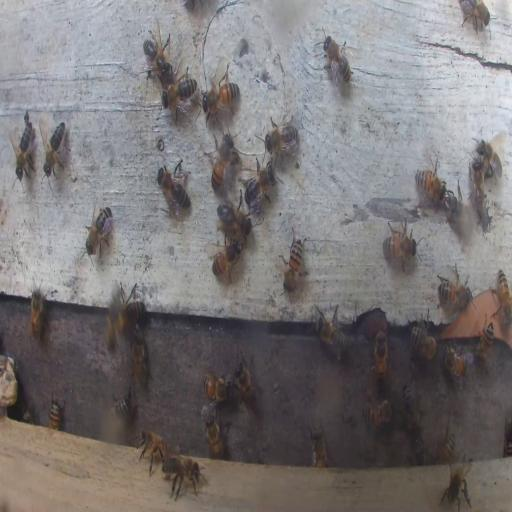bee: (156, 156, 192, 218), (163, 451, 205, 500), (242, 158, 277, 216), (381, 217, 421, 267), (231, 350, 261, 416), (321, 31, 352, 89), (141, 26, 174, 80), (440, 457, 473, 511), (314, 306, 346, 358), (264, 115, 300, 161), (136, 426, 169, 476), (11, 114, 34, 183), (281, 230, 305, 296), (85, 203, 114, 257), (42, 118, 68, 178), (436, 268, 472, 310), (161, 74, 197, 116), (210, 131, 234, 192), (447, 192, 476, 241), (104, 286, 124, 356), (211, 236, 242, 280), (217, 199, 250, 239), (204, 77, 240, 113), (415, 160, 445, 202), (130, 330, 150, 388), (409, 322, 439, 360), (402, 382, 424, 432), (204, 410, 226, 458), (471, 158, 486, 226), (473, 138, 499, 176), (458, 2, 492, 31), (496, 270, 512, 331), (120, 284, 145, 323), (29, 283, 45, 340), (363, 397, 393, 427), (202, 370, 230, 401), (442, 346, 468, 378), (373, 329, 388, 383), (311, 426, 329, 468), (478, 320, 494, 362), (439, 426, 456, 462), (111, 386, 132, 415), (48, 398, 62, 430)
